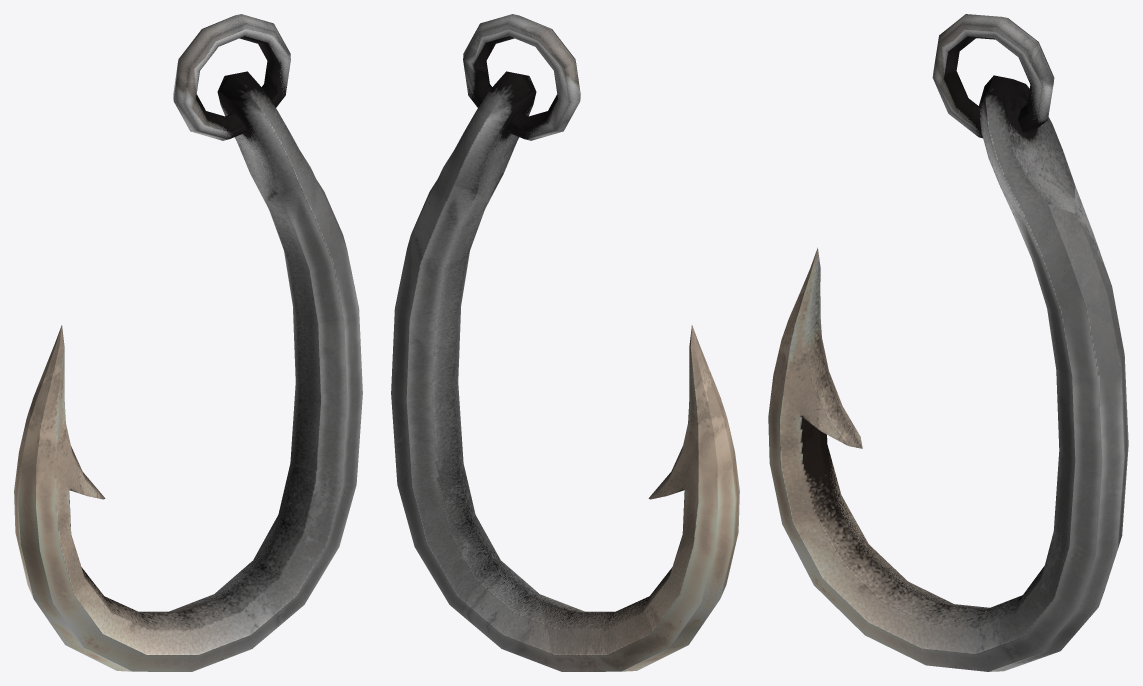
Rendered from Hookobj.obj.
3 views of the same model, side by side, from view 1: azimuth 30°, elevation 25°; view 2: azimuth 150°, elevation 25°; view 3: azimuth 330°, elevation 25° (orthographic). The views are drawn at different scales.
Parts seen in each view (by area): view 1: _0_0_node, _2_0_node; view 2: _0_0_node, _2_0_node; view 3: _0_0_node, _2_0_node.
Part boxes in pixels (left/top/right/bottom): _0_0_node: left=14, top=71, right=362, bottom=671; _2_0_node: left=173, top=14, right=290, bottom=140; _0_0_node: left=391, top=71, right=739, bottom=671; _2_0_node: left=463, top=14, right=580, bottom=140; _0_0_node: left=768, top=75, right=1128, bottom=671; _2_0_node: left=932, top=14, right=1054, bottom=138.
Bounding box in the file's own units: 24.97 × 44.98 × 5.8.
1 material, 1 textured.
